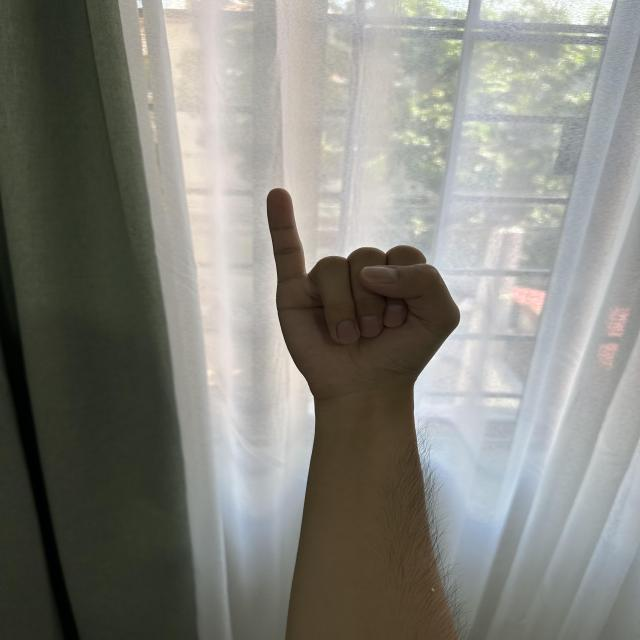I: (266, 186, 464, 399)
